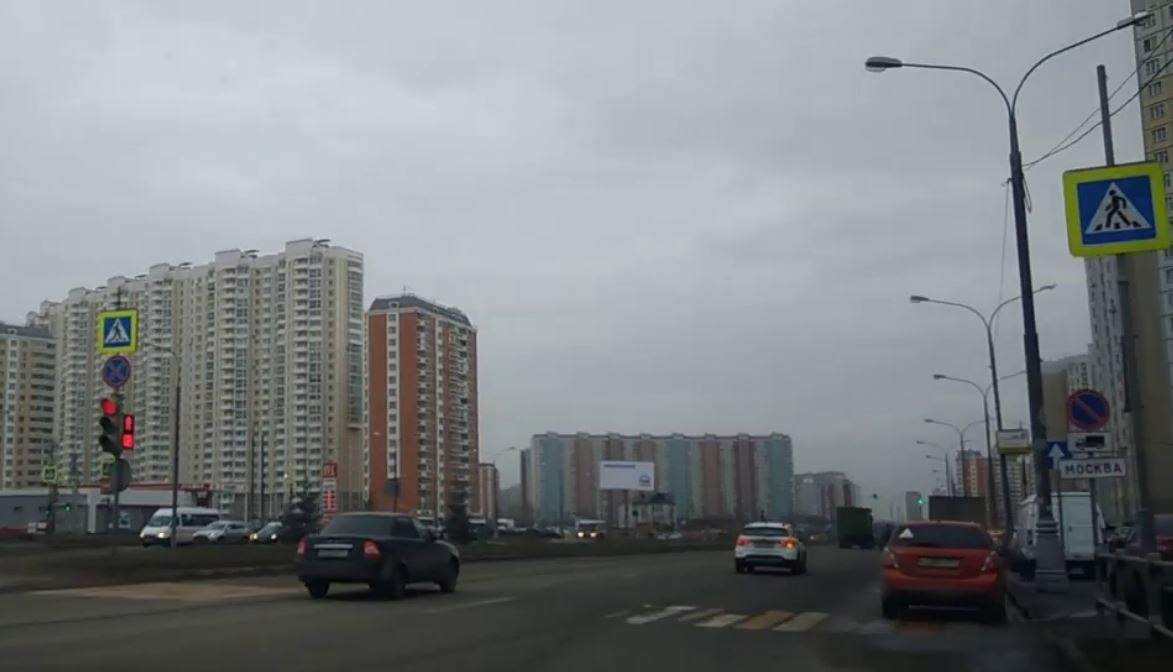Yaya Gecidi: (1084, 174, 1162, 245), (103, 313, 136, 348)
